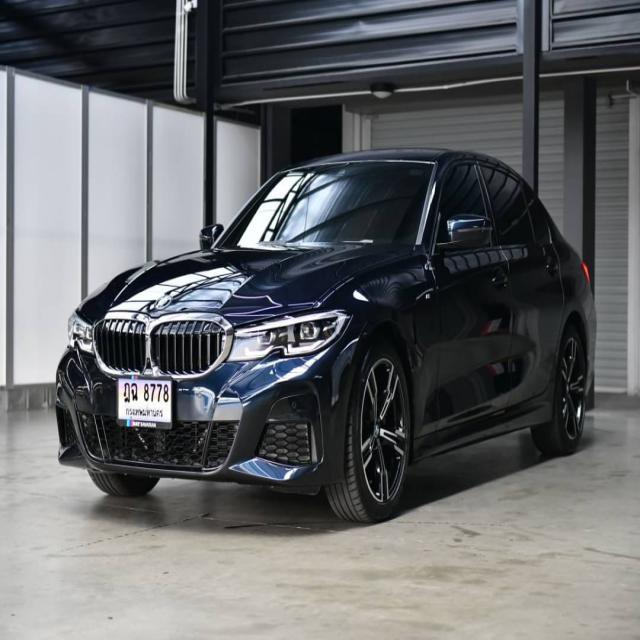license_plate: (116, 373, 174, 432)
